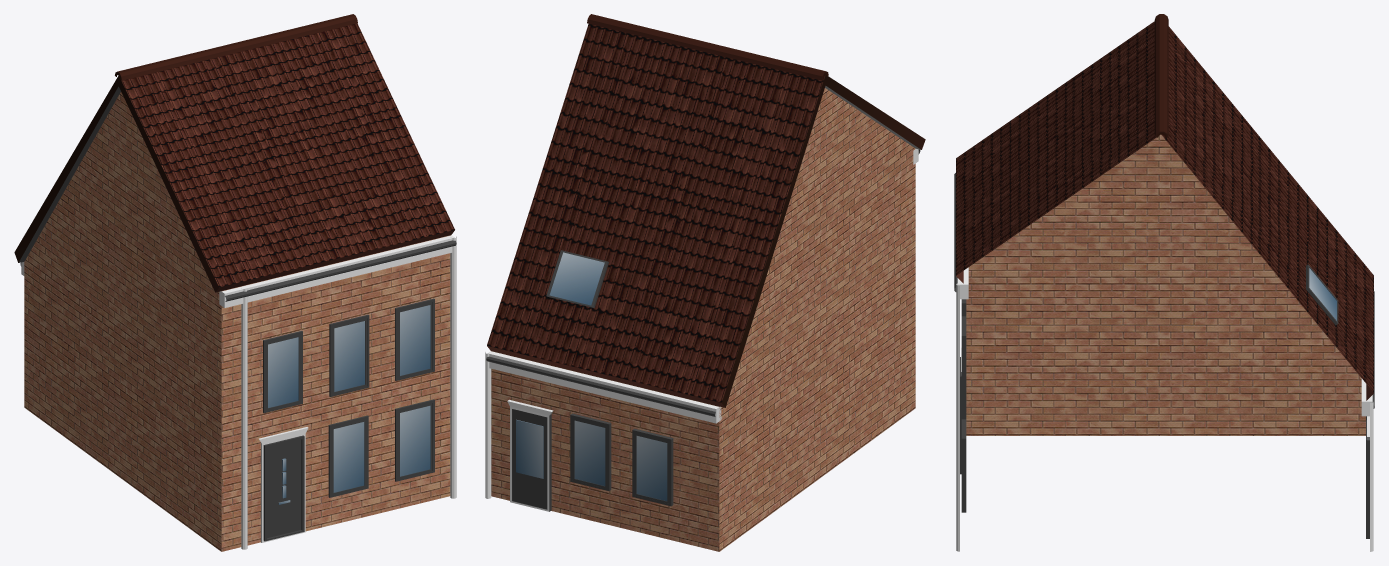
Rendered from Buorkerij_25.fbx.
3 renders of one model, left to right at view 1: azimuth 30°, elevation 25°; view 2: azimuth 150°, elevation 25°; view 3: azimuth 270°, elevation 25°, orthographic. The views are drawn at different scales.
Visible parts, largest first — view 1: Buorkerij_25; view 2: Buorkerij_25; view 3: Buorkerij_25.
Part boxes in pixels (x1,y1,x2,y2): Buorkerij_25: (14, 14, 456, 551); Buorkerij_25: (485, 14, 925, 551); Buorkerij_25: (954, 14, 1374, 551).
Bounding box in the file's own units: 629 × 1031 × 938.
